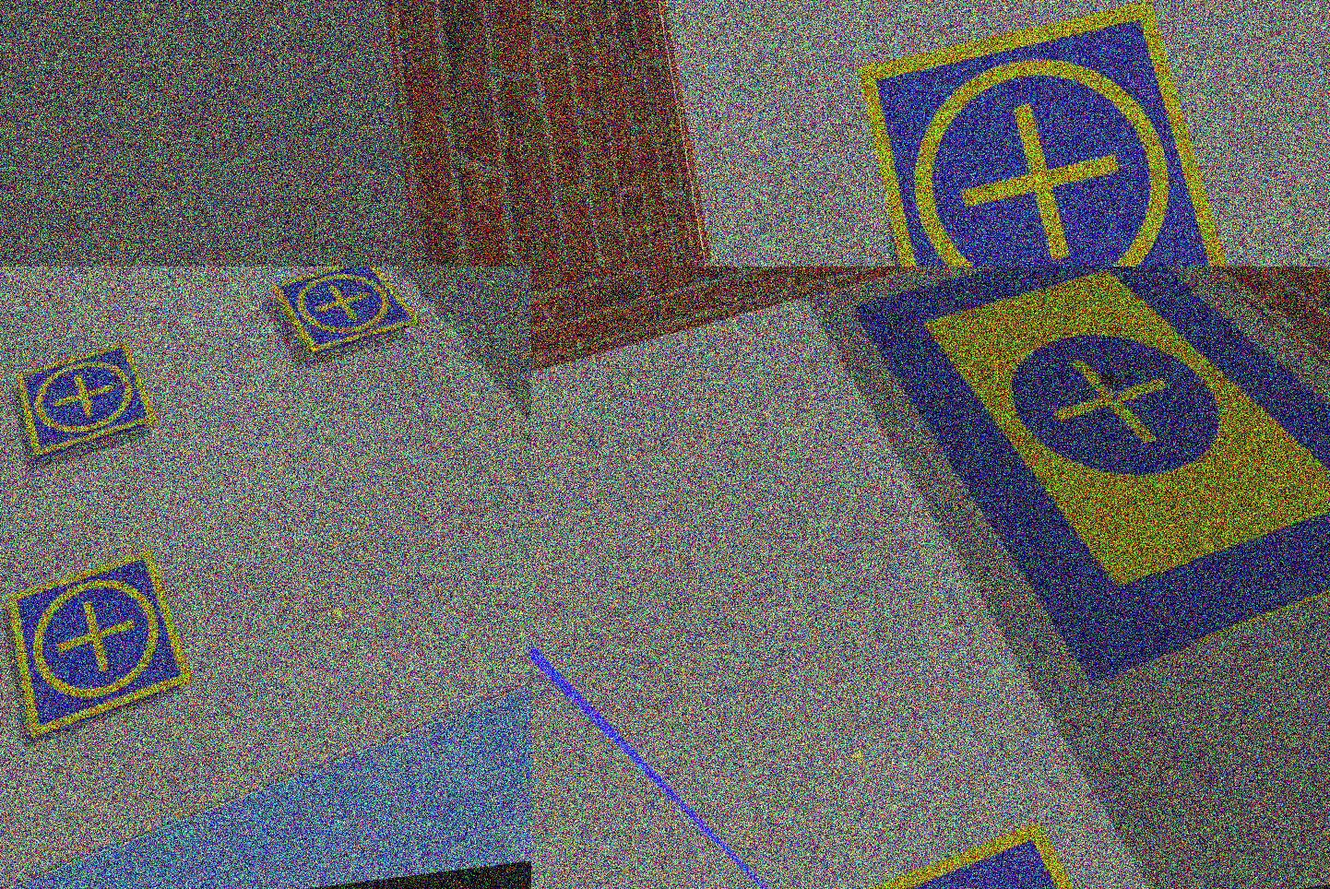large_base: (847, 267, 1330, 708)
small_base: (848, 1, 1247, 267), (2, 550, 194, 743), (783, 817, 1087, 889), (14, 341, 162, 461), (276, 267, 423, 356)
